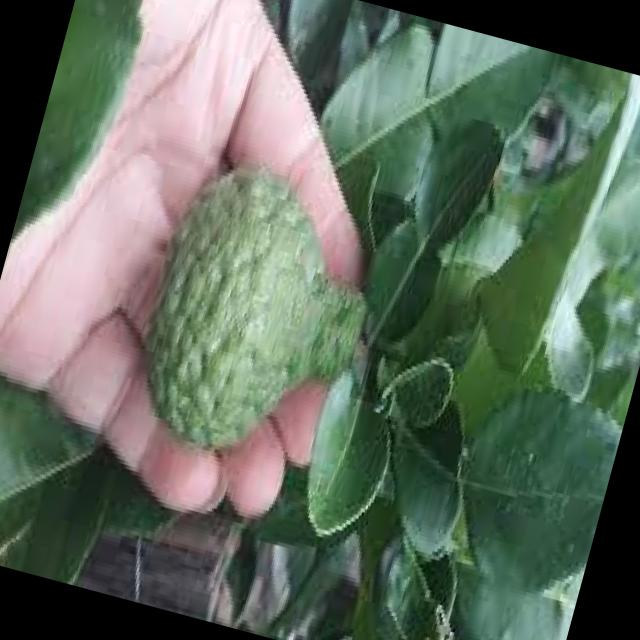Chuc: (117, 146, 405, 486)
